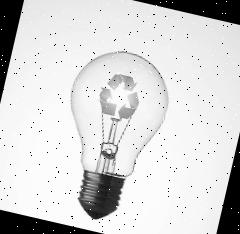lightbulb: (44, 40, 178, 228)
